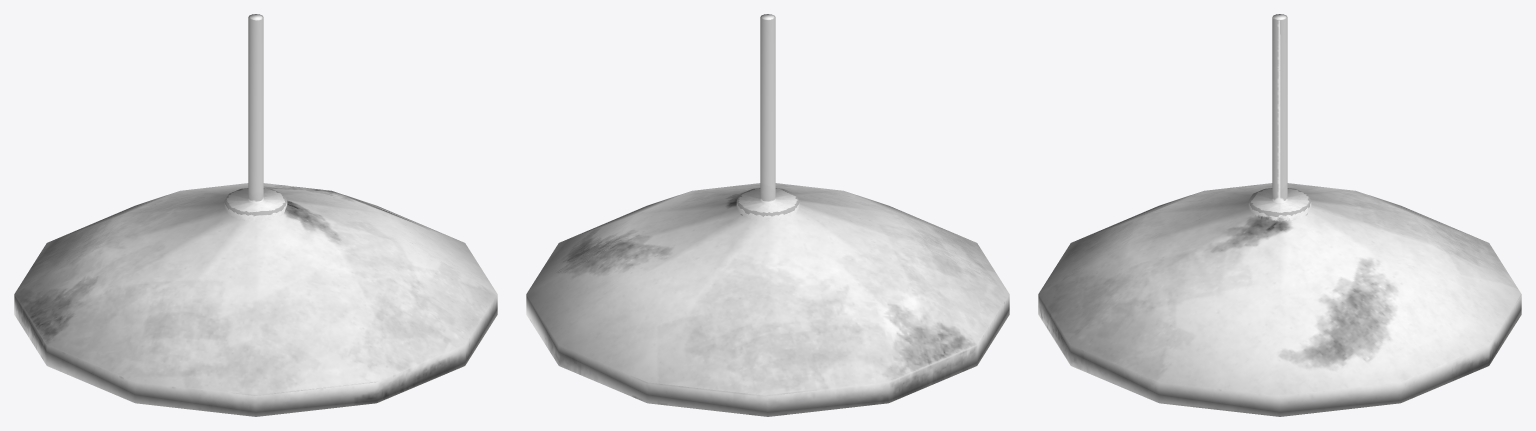
Rendered from SM_Celing_Light_Rounded.fbx.
The picture shows the model from 3 angles, left to right: view 1: azimuth 30°, elevation 25°; view 2: azimuth 150°, elevation 25°; view 3: azimuth 270°, elevation 25°; orthographic projection.
Parts seen in each view (by area): view 1: Cylinder; view 2: Cylinder; view 3: Cylinder.
Part boxes in pixels (x1,y1,x2,y2): Cylinder: [14, 14, 497, 416]; Cylinder: [526, 14, 1009, 416]; Cylinder: [1038, 14, 1521, 416].
Size of the model in its own units: 127 by 89.15 by 127.
